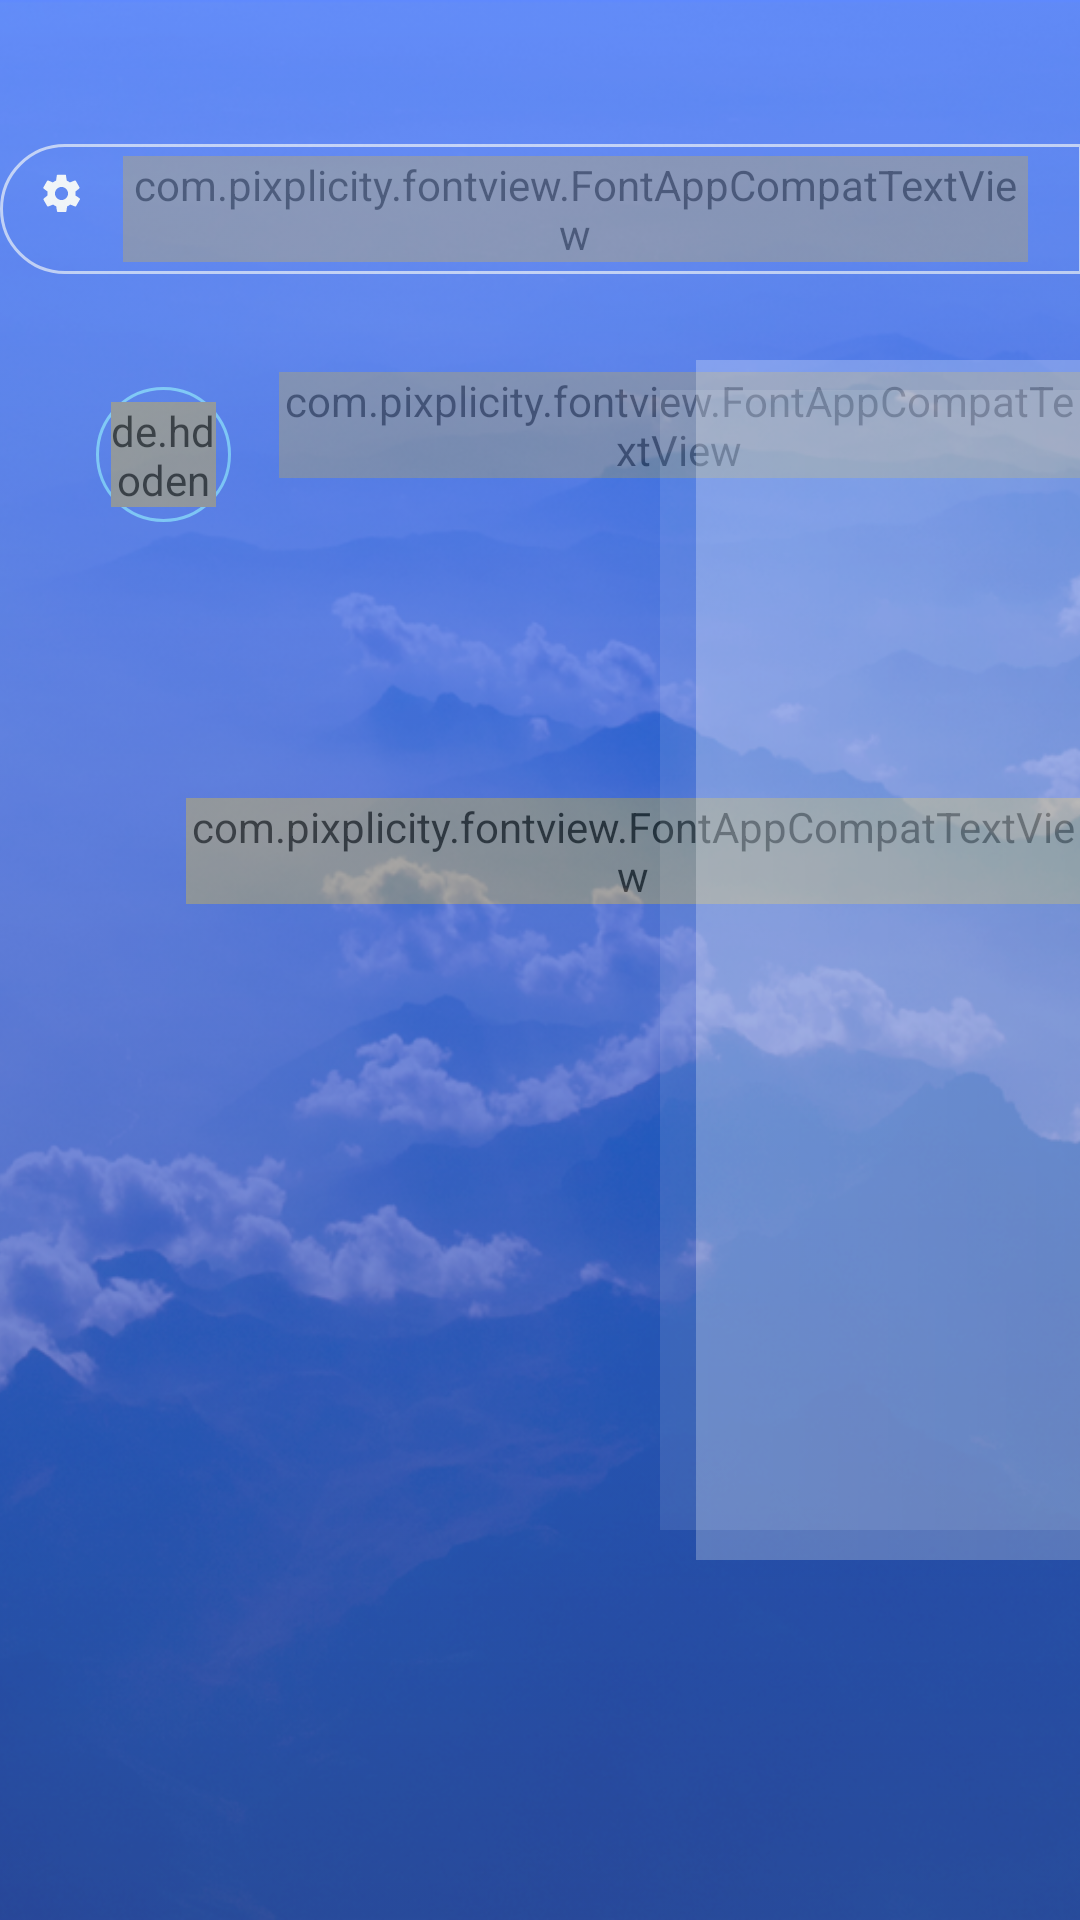

Point at icon controls on the screen. Image size 1080w x 1920h, points as [x,y].
settings: [61,193]
